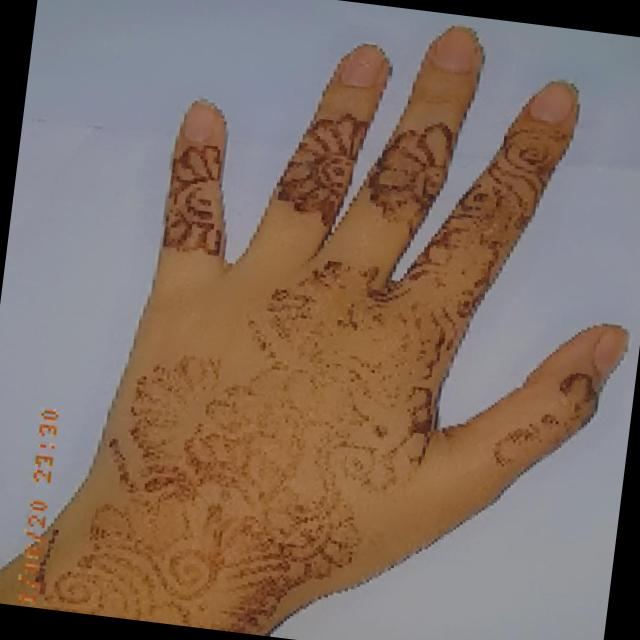Nail: (433, 26, 477, 72), (531, 82, 576, 123), (593, 325, 628, 376), (340, 45, 381, 87), (183, 101, 215, 141)
